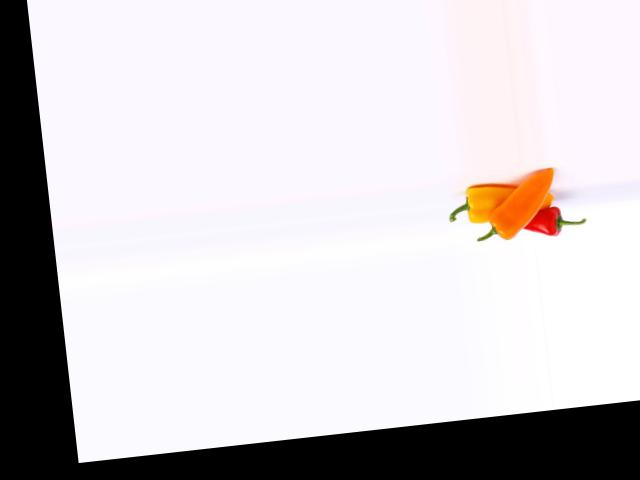bell_pepper: (442, 172, 529, 231)
